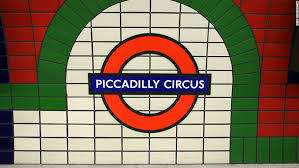London Underground: (92, 34, 213, 131)
